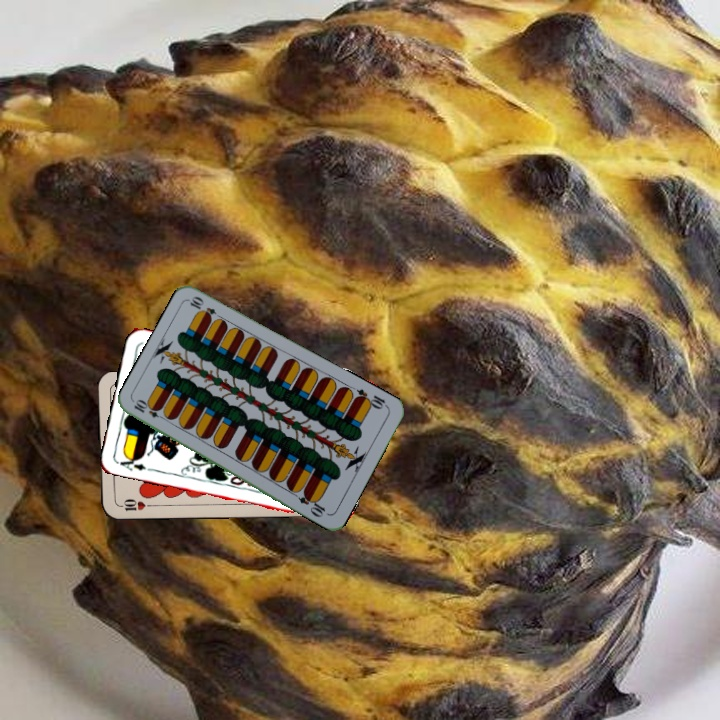E10: (351, 385, 390, 412), (130, 397, 169, 423)
EA: (113, 452, 149, 473)
H10: (115, 495, 155, 513)
